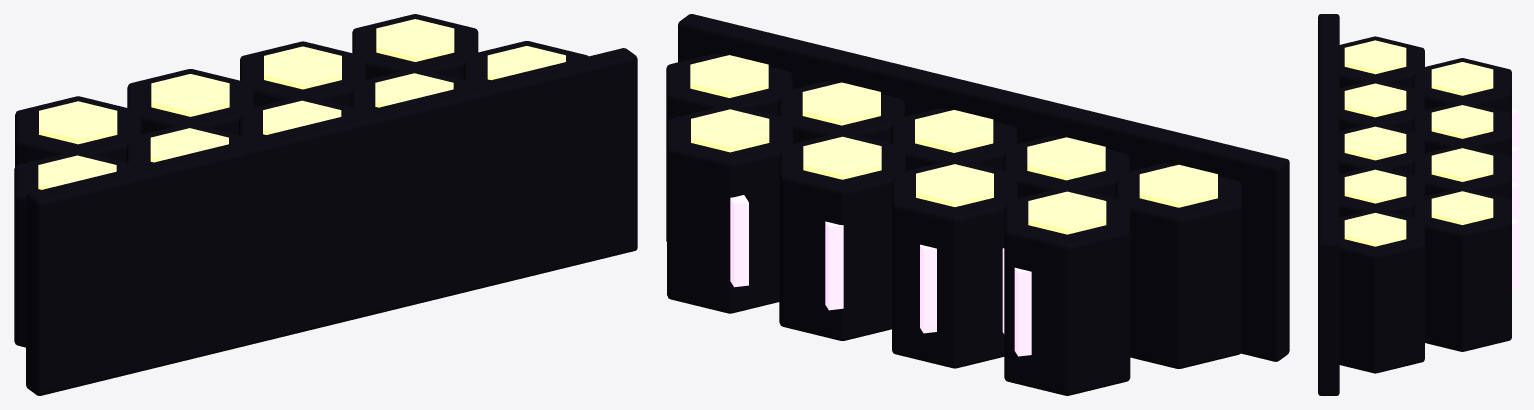
The model's file is CyberHexBarricade.fbx.
3 renders of one model, left to right at view 1: azimuth 30°, elevation 25°; view 2: azimuth 150°, elevation 25°; view 3: azimuth 270°, elevation 25°, orthographic. The views are drawn at different scales.
Visible parts, largest first — view 1: CHB_variant long wall cells, CHB_variant low wall cells, CHB_variant long wall gold cell rims, CHB_variant low wall gold cell rims; view 2: CHB_variant long wall cells, CHB_variant long wall gold cell rims, CHB_variant low wall cells, CHB_variant long wall magenta hazard chevrons, CHB_variant low wall gold cell rims; view 3: CHB_variant long wall cells, CHB_variant long wall gold cell rims, CHB_variant low wall cells, CHB_variant low wall gold cell rims, CHB_variant long wall magenta hazard chevrons.
Boxes of the visible parts, box(x1,y1,x2,y2) form: CHB_variant long wall cells: box(14, 14, 637, 395); CHB_variant low wall cells: box(130, 70, 523, 368); CHB_variant long wall gold cell rims: box(38, 19, 565, 189); CHB_variant low wall gold cell rims: box(151, 73, 453, 159); CHB_variant long wall cells: box(666, 14, 1289, 395); CHB_variant long wall gold cell rims: box(690, 55, 1217, 234); CHB_variant low wall cells: box(782, 42, 1172, 188); CHB_variant long wall magenta hazard chevrons: box(730, 195, 1031, 356); CHB_variant low wall gold cell rims: box(803, 83, 1105, 175); CHB_variant long wall cells: box(1318, 14, 1511, 395); CHB_variant long wall gold cell rims: box(1344, 40, 1493, 246); CHB_variant low wall cells: box(1318, 57, 1511, 209); CHB_variant low wall gold cell rims: box(1344, 83, 1406, 198); CHB_variant long wall magenta hazard chevrons: box(1512, 109, 1519, 289).
Bounding box in the file's own units: 228 × 71 × 84.52.
